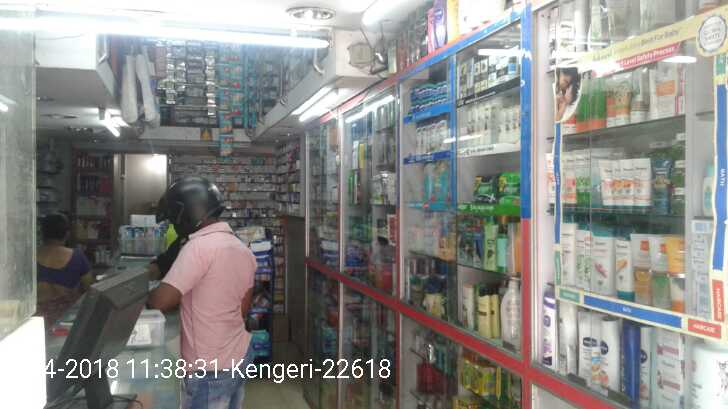vicks: (406, 72, 450, 116)
